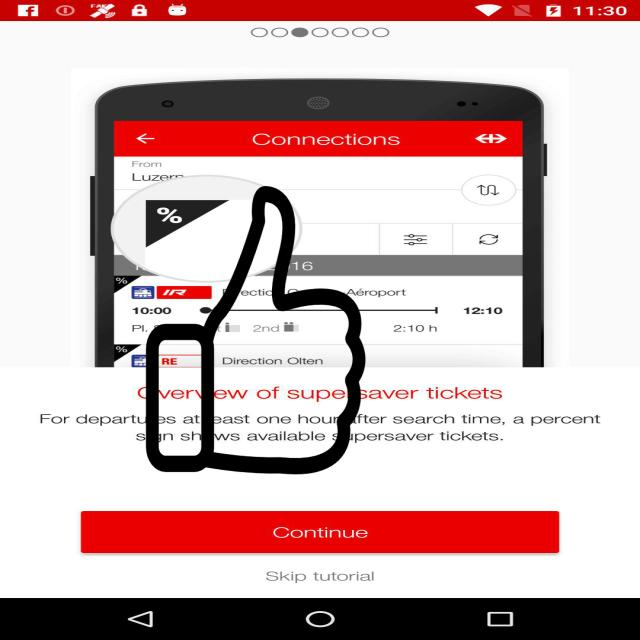privacy zuckering: (142, 186, 368, 474)
